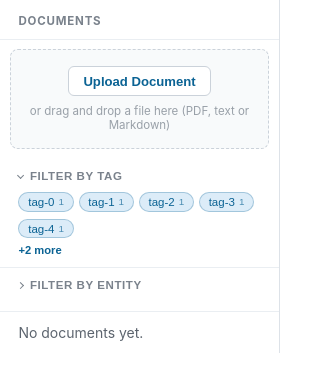
Test: DocumentTree › expands a long tag list on demand
Expected: the text "tag-6" is not shown
Click the button "+2 more". click: (40, 250)
box: [18,244,62,256]
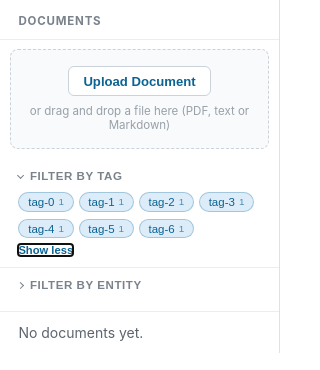
Expected: the button "tag-6 1" is shown, [139,219,194,238]
